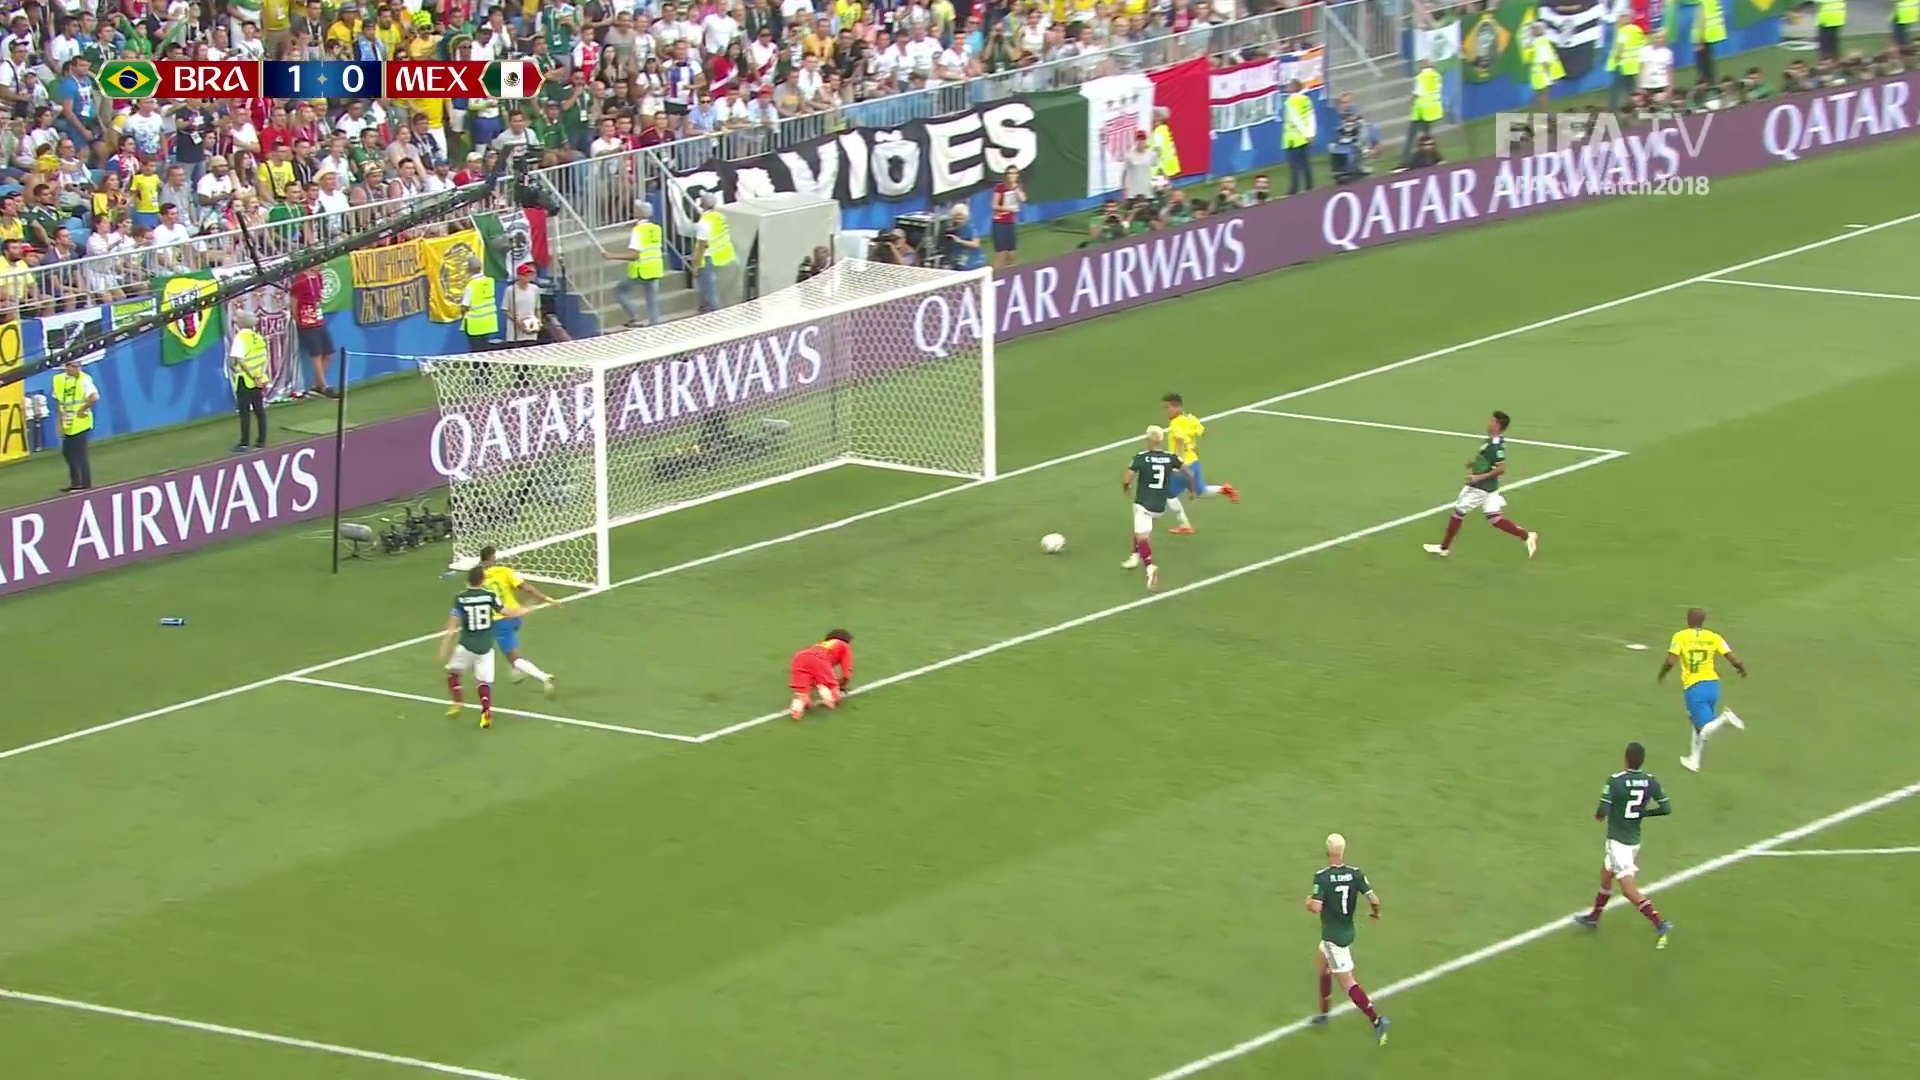ball: (1041, 533, 1063, 553)
person: (1572, 743, 1668, 945), (1307, 831, 1388, 1045), (1425, 411, 1538, 556), (1655, 606, 1747, 772), (478, 549, 560, 686), (1159, 395, 1239, 535), (1120, 426, 1180, 601), (447, 569, 494, 721), (792, 628, 855, 719)
